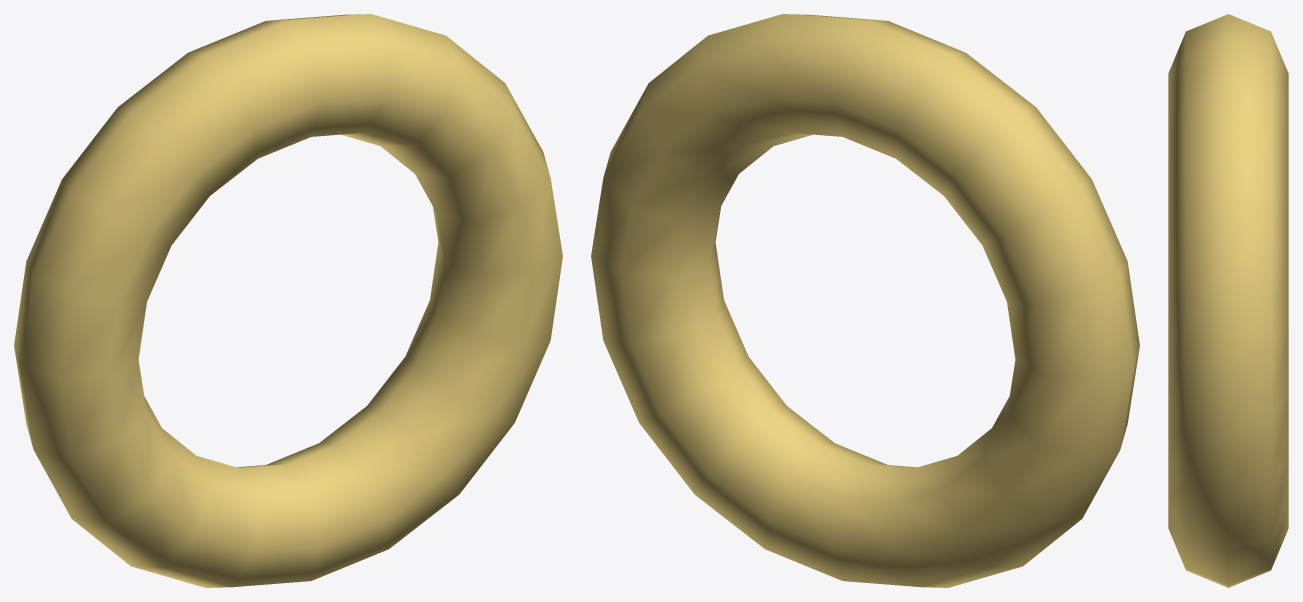
File: Wedding_ring_leak.glb
3 renders of one model, left to right at view 1: azimuth 30°, elevation 25°; view 2: azimuth 150°, elevation 25°; view 3: azimuth 270°, elevation 25°, orthographic. The views are drawn at different scales.
Visible parts, largest first — view 1: Wedding_ring_leak; view 2: Wedding_ring_leak; view 3: Wedding_ring_leak.
Boxes of the visible parts, x1,y1,x2,y2 form: Wedding_ring_leak: (14,14,562,587); Wedding_ring_leak: (591,14,1139,587); Wedding_ring_leak: (1168,14,1288,587).
Size of the model in its own units: 0.024 by 0.024 by 0.005.
